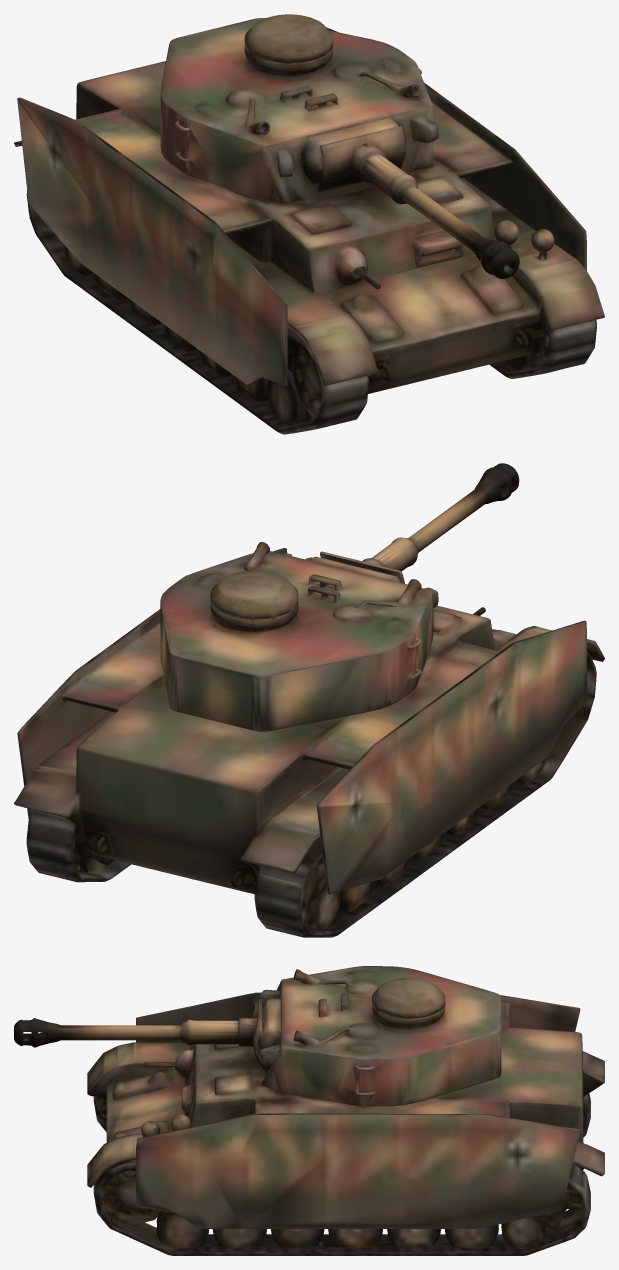
The model's file is pz4h_opt.glb.
3 views of the same model, one above another, from view 1: azimuth 30°, elevation 25°; view 2: azimuth 150°, elevation 25°; view 3: azimuth 270°, elevation 25° (orthographic). The views are drawn at different scales.
Parts seen in each view (by area): view 1: node_0; view 2: node_0; view 3: node_0.
Part boxes in pixels (bbox=[...]): node_0: bbox=[14, 14, 604, 434]; node_0: bbox=[14, 463, 604, 937]; node_0: bbox=[14, 966, 604, 1255].
Size of the model in its own units: 0.5336 by 0.4452 by 1.09.
1 material, 1 textured.
